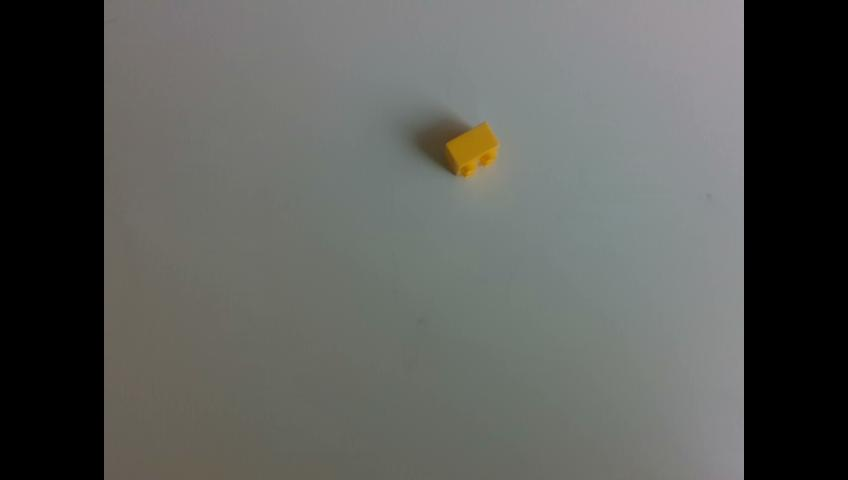2x2_yellow: (447, 120, 499, 177)
